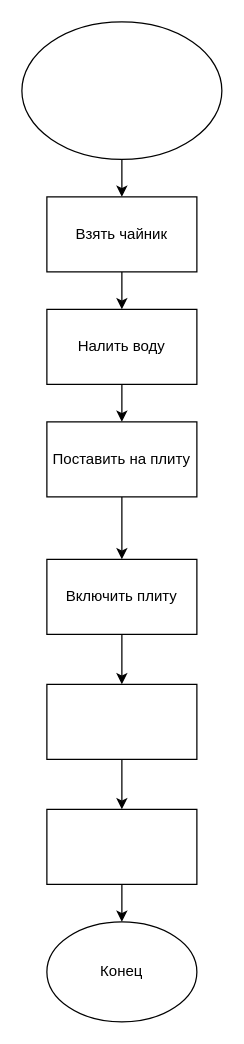
This 244x1044 diagram has some shape labels left out. The shapes that lost their labels are listed below. From the top down, each one's centre as x and y in pixels, then its label:
At point 121,90: "Н ачало".
At point 121,721: "Дождаться закипания".
At point 121,846: "Налить в чашку".
